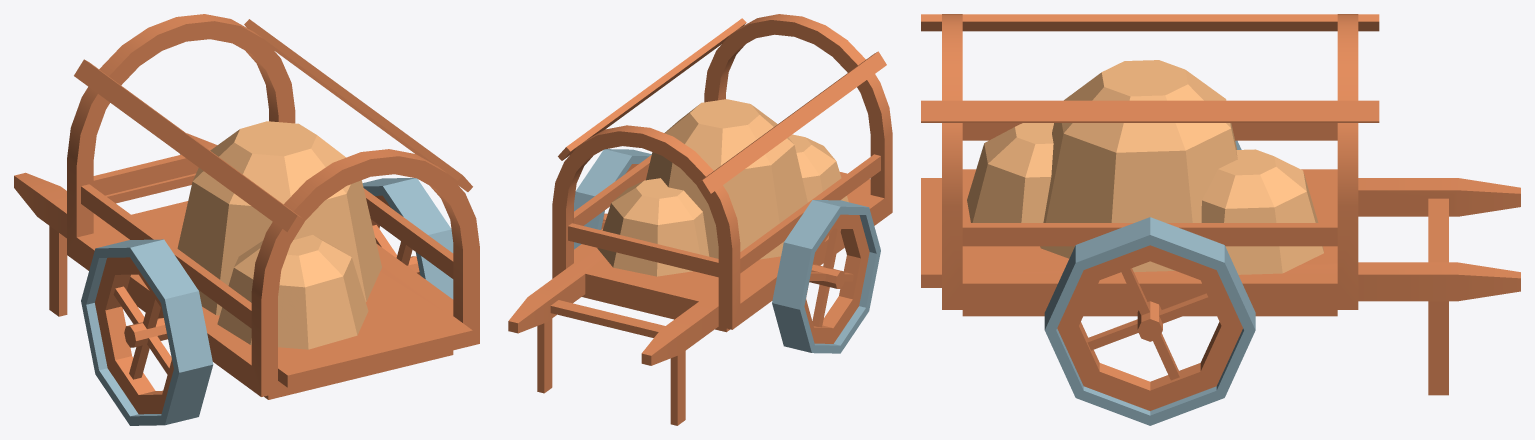
The model's file is cartHigh.obj.
The picture shows the model from 3 angles, left to right: view 1: azimuth 30°, elevation 25°; view 2: azimuth 150°, elevation 25°; view 3: azimuth 270°, elevation 25°; orthographic projection. The views are drawn at different scales.
Parts seen in each view (by area): view 1: cartHigh, hay, wheel; view 2: cartHigh, hay, wheel; view 3: cartHigh, hay, wheel.
Part boxes in pixels (x1,y1,x2,y2): cartHigh: (14,14,479,399); hay: (177,121,381,349); wheel: (81,178,453,425); cartHigh: (508,14,892,425); hay: (597,99,848,276); wheel: (574,149,880,353); cartHigh: (921,14,1520,395); hay: (967,60,1323,274); wheel: (1044,140,1255,425).
Size of the model in its own units: 0.8525 by 0.8605 by 1.44.
